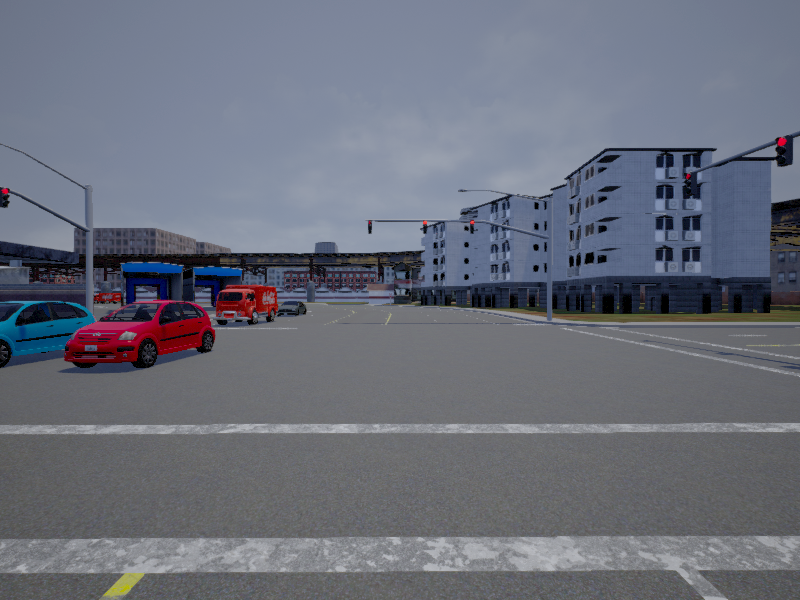Benign: (65, 299, 217, 366), (1, 301, 99, 362), (215, 287, 277, 325), (277, 301, 305, 317)
